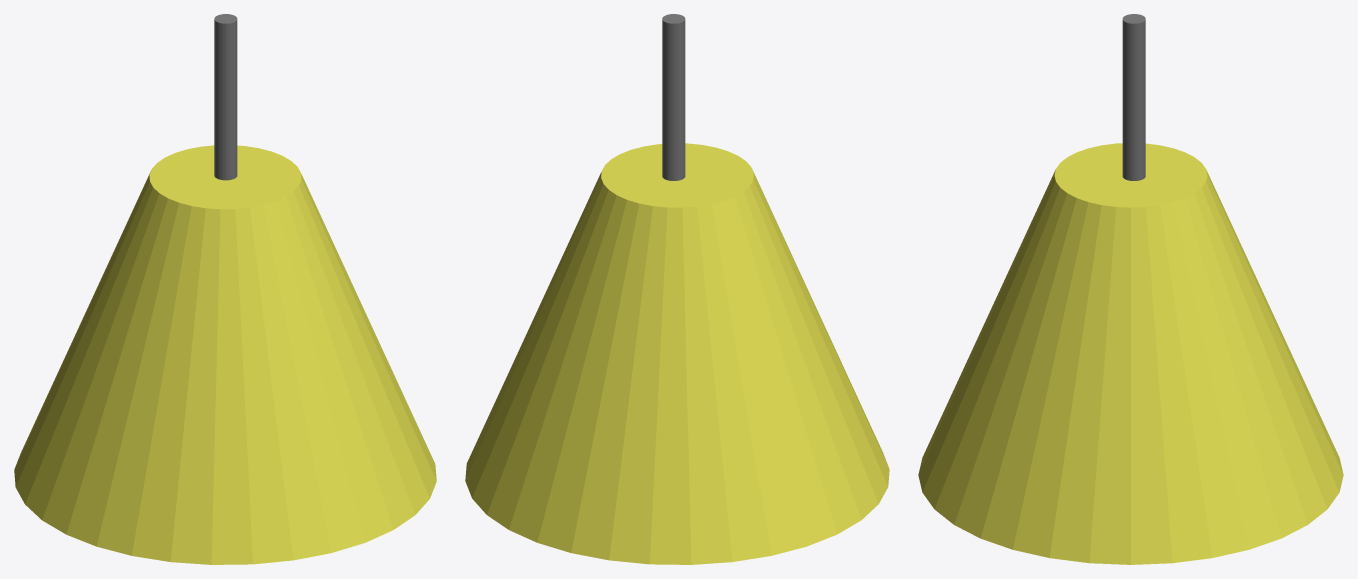
The model's file is ceilingLamp6.fbx.
3 renders of one model, left to right at view 1: azimuth 30°, elevation 25°; view 2: azimuth 150°, elevation 25°; view 3: azimuth 270°, elevation 25°, orthographic.
Visible parts, largest first — view 1: Cylinder.008, Cylinder.007; view 2: Cylinder.008, Cylinder.007; view 3: Cylinder.008, Cylinder.007.
Boxes of the visible parts, x1,y1,x2,y2 form: Cylinder.008: (14, 145, 436, 564); Cylinder.007: (214, 14, 237, 180); Cylinder.008: (465, 143, 889, 564); Cylinder.007: (662, 14, 685, 180); Cylinder.008: (918, 143, 1343, 564); Cylinder.007: (1122, 14, 1145, 180).
Size of the model in its own units: 556 by 726 by 556.
